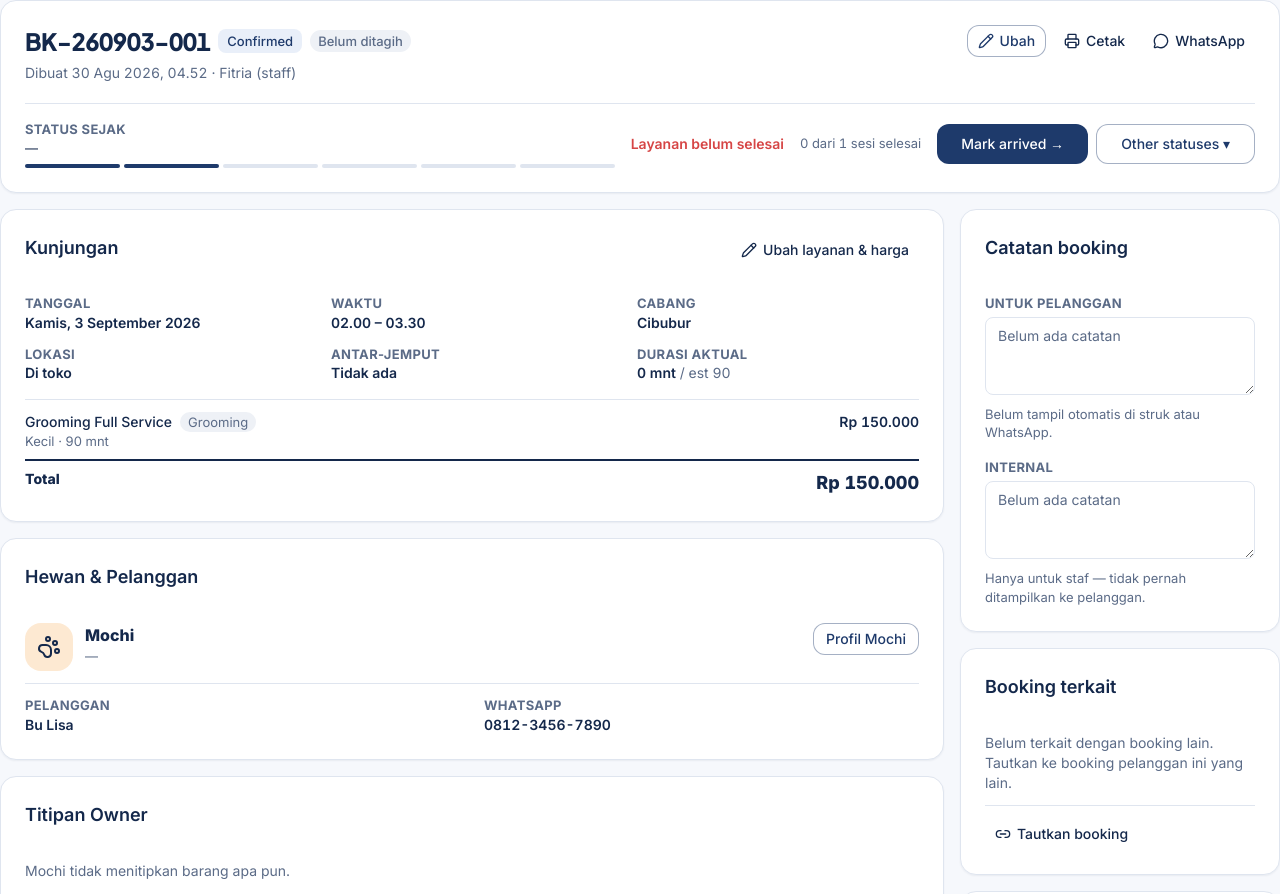
Test: BookingDetailScreen — the status track › moving the booking updates the page from the answer, without re-reading it
Click the button "Mark arrived →" at (1013, 144), box [937, 124, 1088, 164]
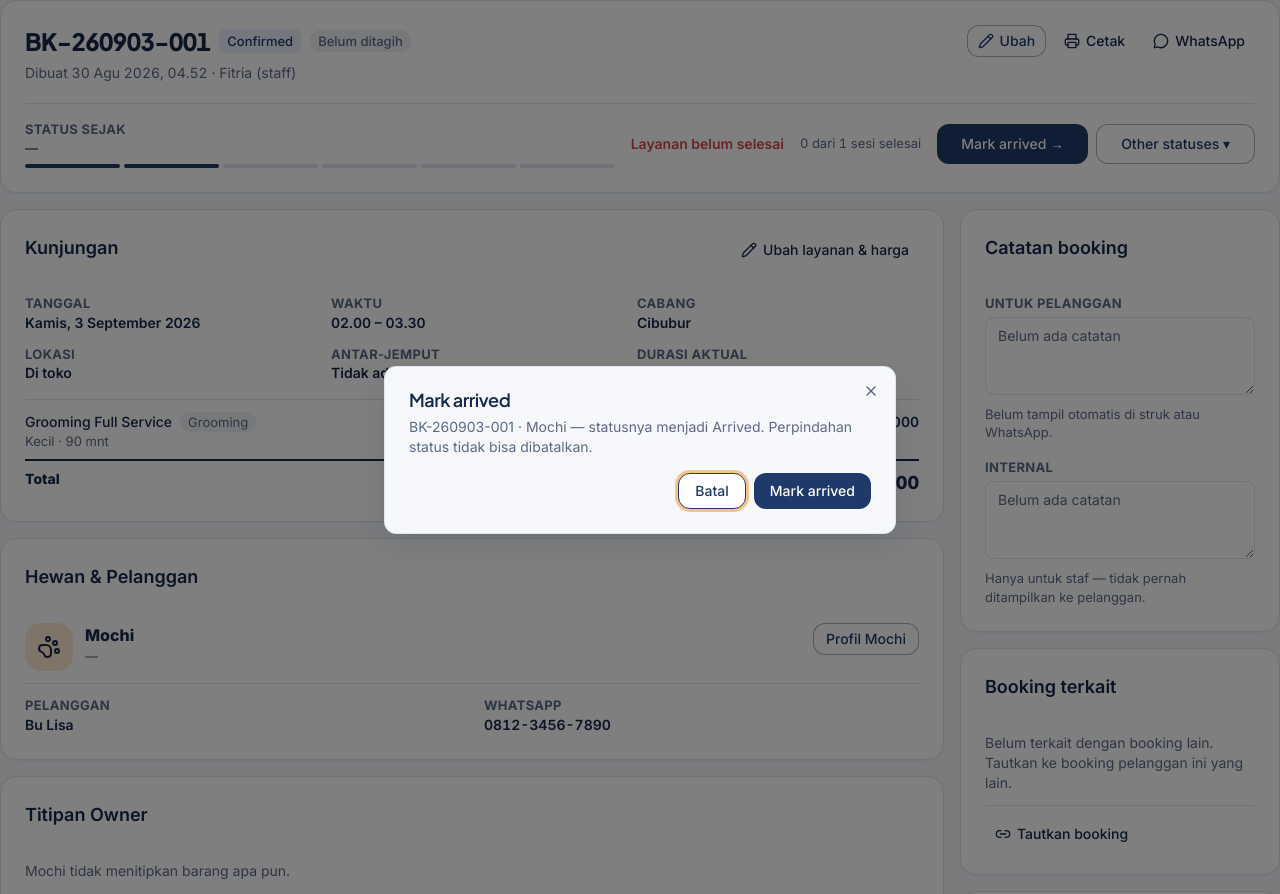
Click the button "Mark arrived" at (812, 491), box [754, 473, 871, 509]
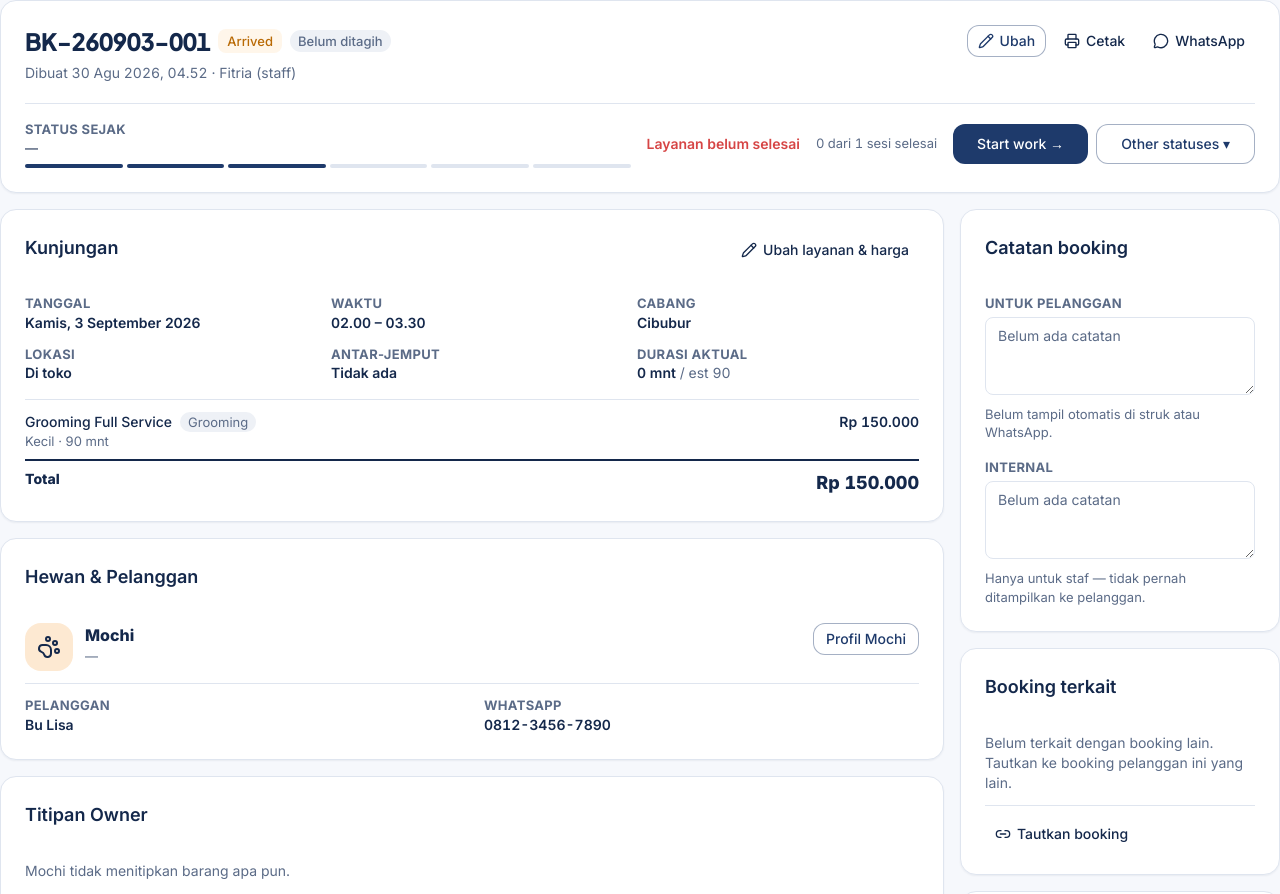
Result: the text "Arrived" is shown at [218, 29, 282, 53]
